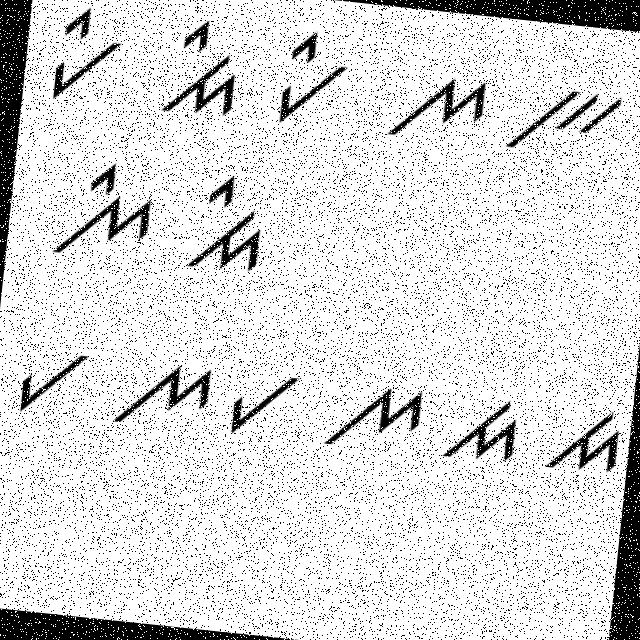da: (536, 396, 627, 490), (436, 382, 528, 472)
di: (153, 13, 250, 135), (178, 166, 276, 280)
na: (368, 55, 492, 157), (104, 348, 221, 448), (313, 373, 434, 467)
ni: (41, 148, 160, 268)
pa: (221, 365, 312, 450), (11, 340, 98, 426)
pi: (36, 0, 133, 111), (263, 21, 354, 130)
